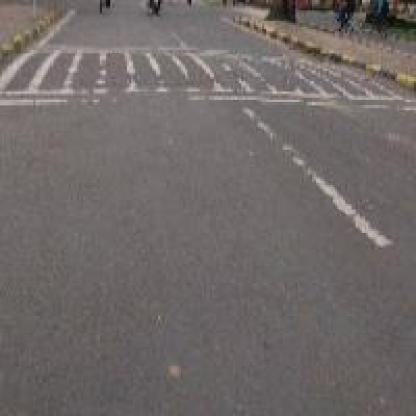Speed Bump: (0, 46, 412, 106)
